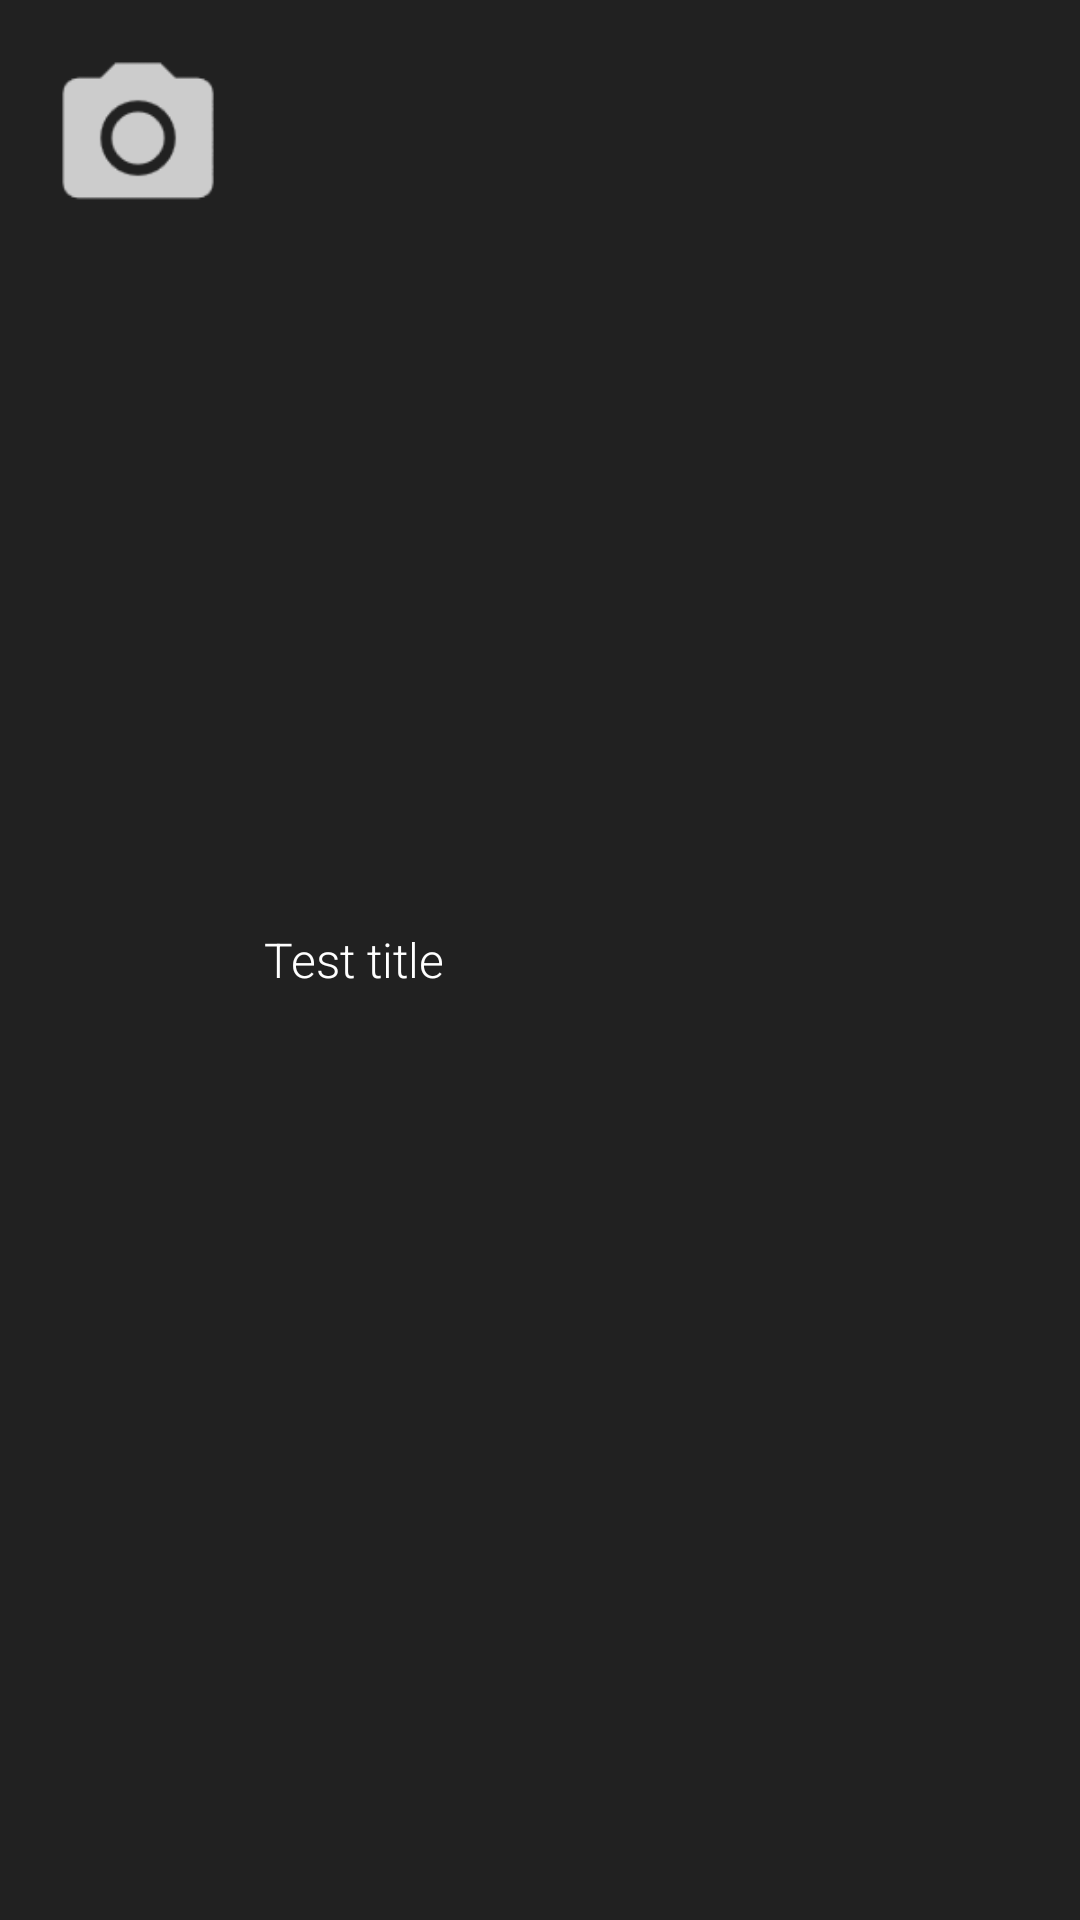

Screen size 1080px×1920px. Icon name, then its box in pixels as (x1, y1, x2, y2):
camera: (62, 62, 214, 199)
